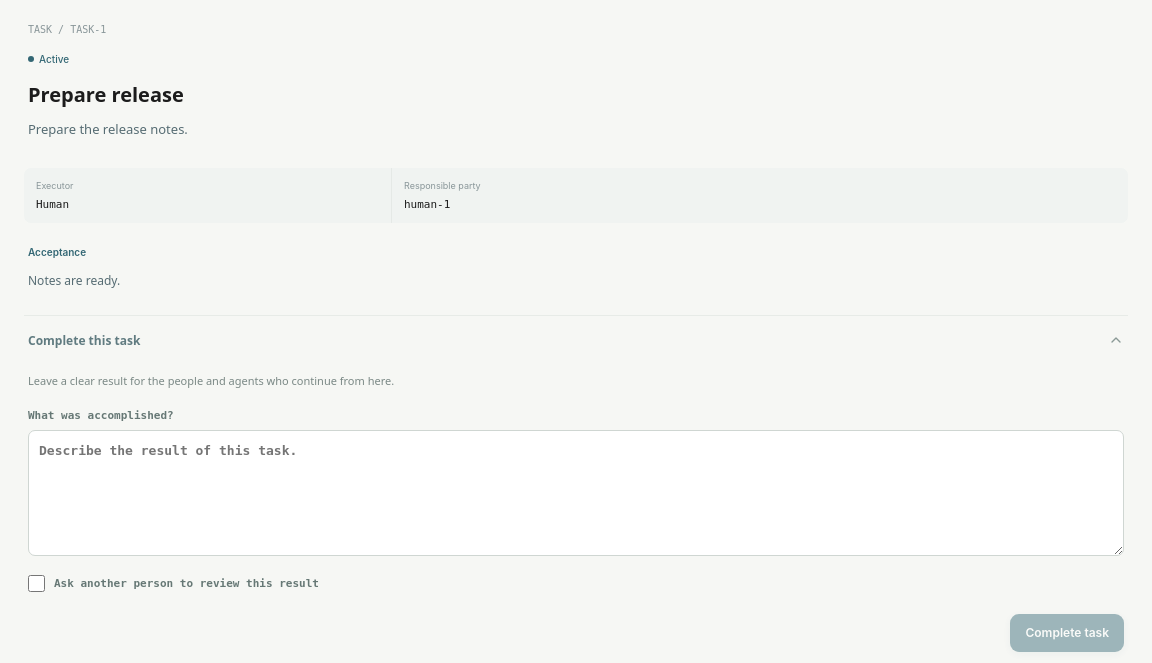
Test: Task detail operations › preserves the form and displays the API error when completion fails
Type "Keep this result" into the text box labelled "What was accomplished?" at {"x": 576, "y": 493}, box x1=28 y1=430 x2=1124 y2=556
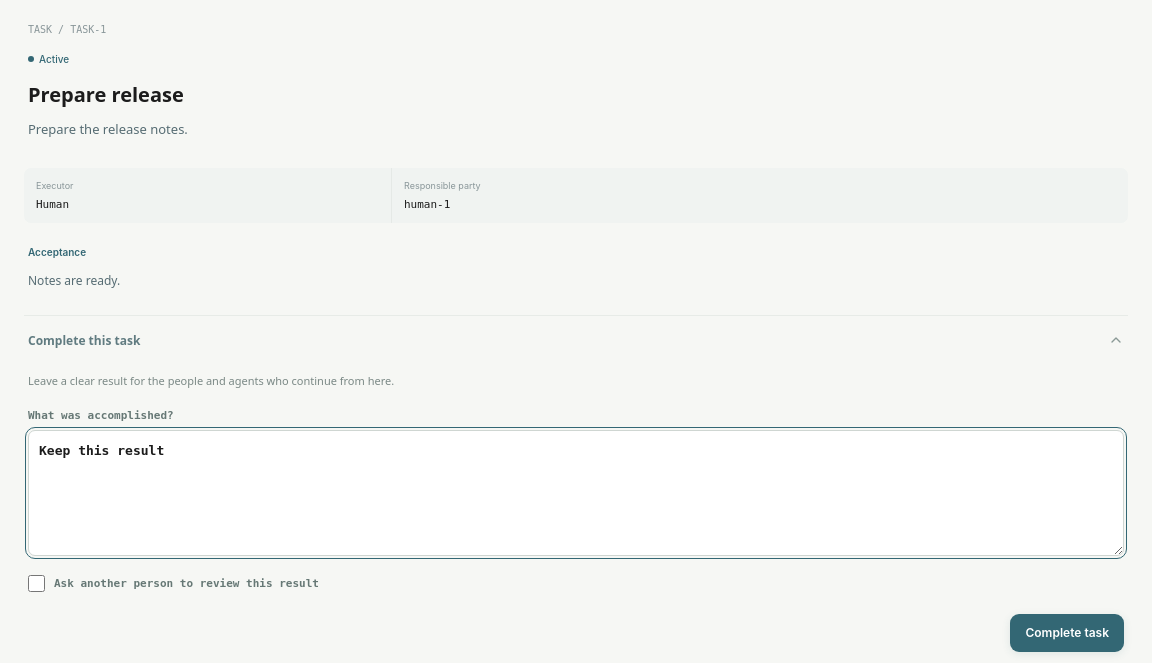
Click the button "Complete task" at {"x": 1067, "y": 633}, box x1=1010 y1=614 x2=1124 y2=652
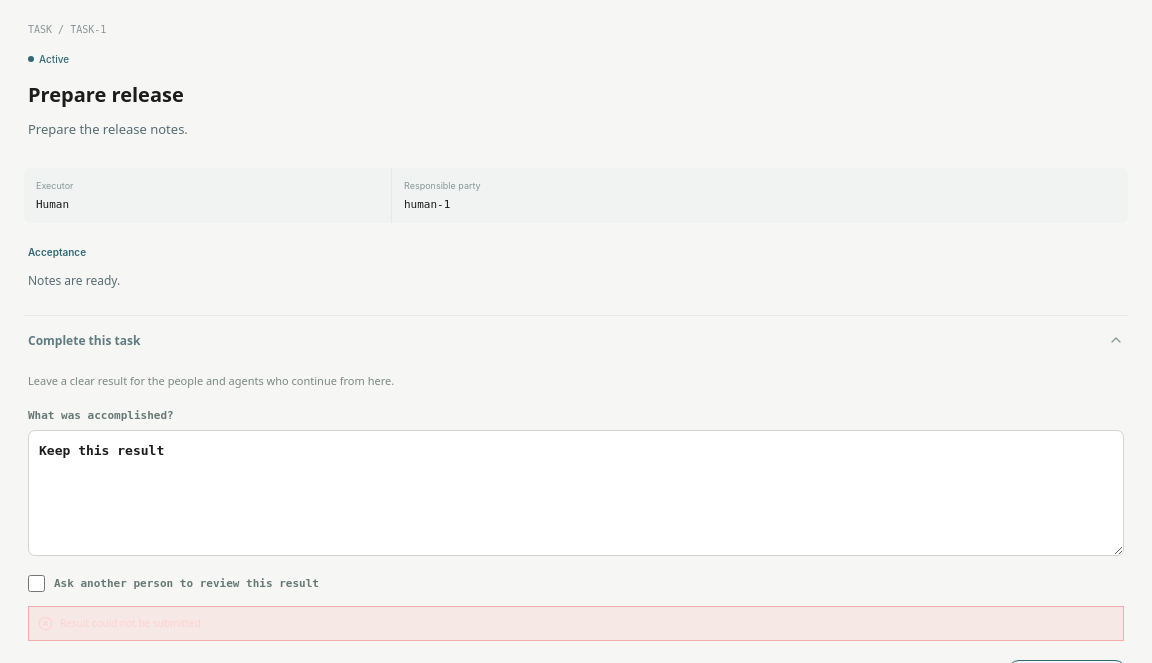
Expected: the text "Result could not be submitted" is shown, x1=28 y1=606 x2=1124 y2=641
